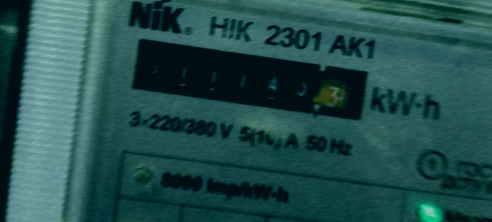0: (145, 48, 162, 78)
1: (205, 56, 221, 86), (176, 52, 190, 81)
3: (293, 71, 310, 99), (323, 84, 340, 110)
4: (263, 67, 281, 95)
7: (234, 60, 252, 90)
screen: (119, 27, 380, 133)
